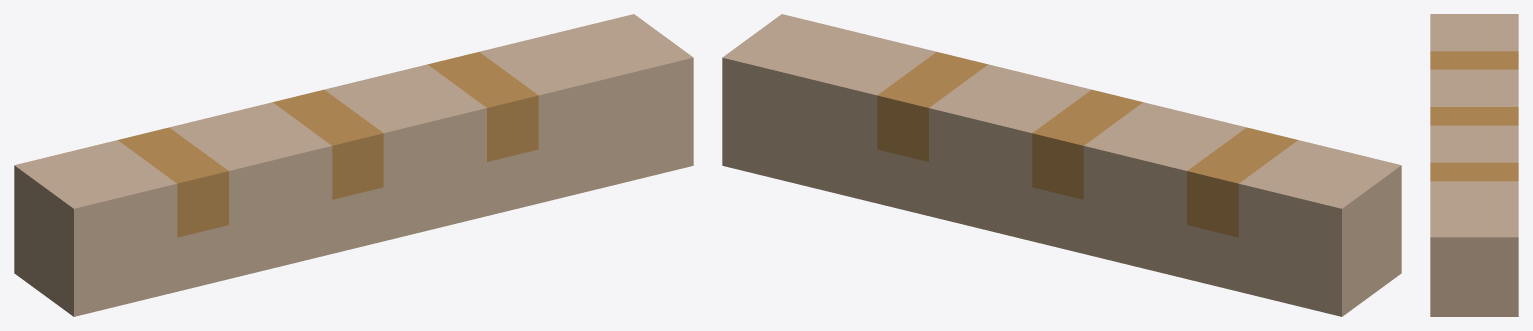
File: baguette.glb
3 views of the same model, side by side, from view 1: azimuth 30°, elevation 25°; view 2: azimuth 150°, elevation 25°; view 3: azimuth 270°, elevation 25° (orthographic). The views are drawn at different scales.
Visible parts, largest first — view 1: main; view 2: main; view 3: main.
Boxes of the visible parts, x1,y1,x2,y2 form: main: (14, 14, 693, 316); main: (722, 14, 1401, 316); main: (1430, 14, 1518, 316).
Size of the model in its own units: 0.75 by 0.125 by 0.125.
